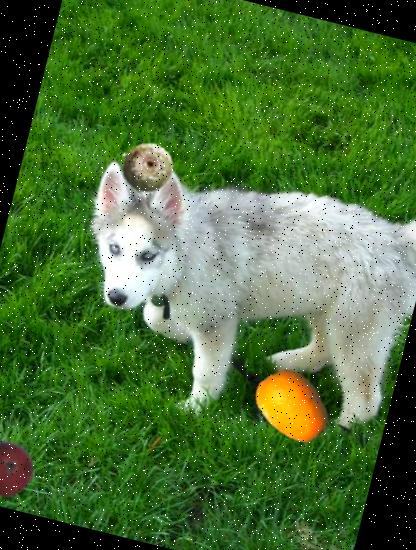Cactus: (115, 136, 178, 200)
Kumquats: (245, 360, 338, 454)
Pomegranate: (0, 436, 40, 503)
